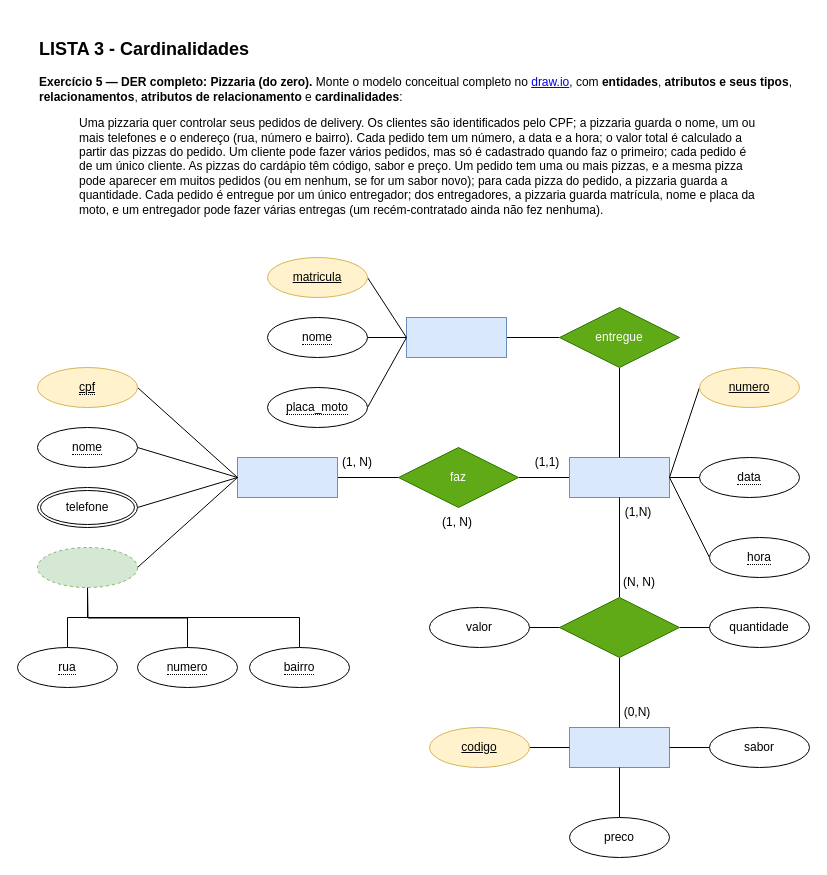
Image size: 827x875. Some labels were removed from this diagram. Here are the shapes that lost their labels. From the top down, the box of each, then its label:
(406, 316, 506, 358): ENTREGADOR
(236, 456, 338, 498): CLIENTE
(568, 456, 670, 498): PEDIDO
(36, 546, 138, 588): endereco
(558, 596, 680, 658): tem
(568, 726, 670, 768): PIZZA
